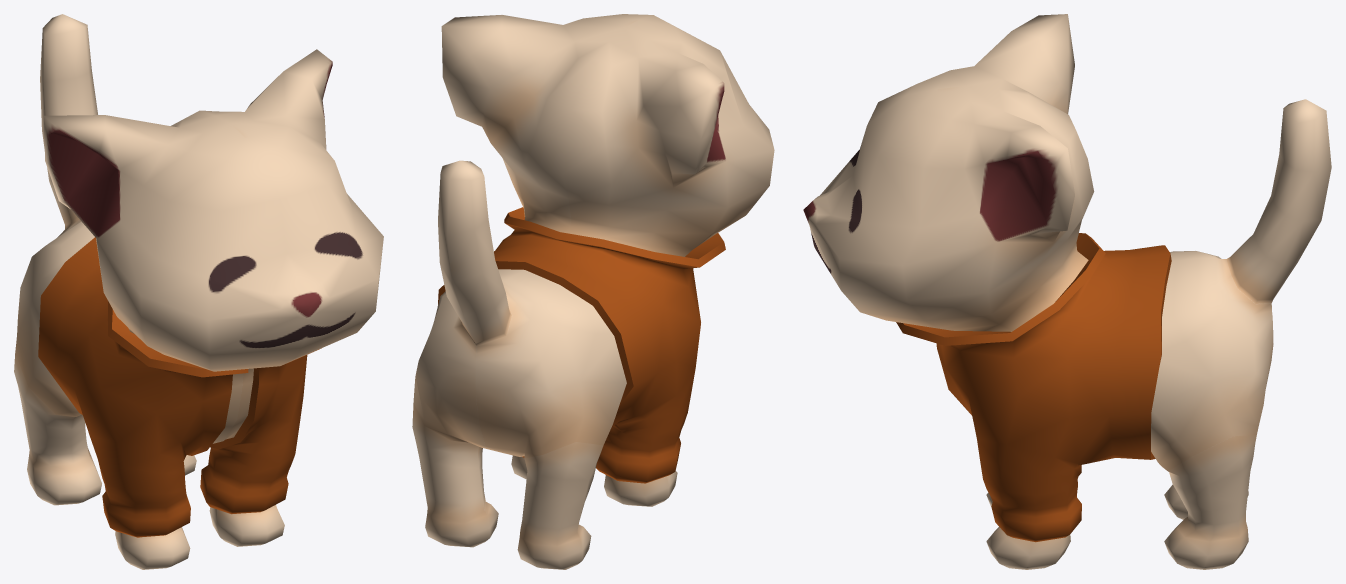
Rendered from Varsity Cat01.fbx.
3 renders of one model, left to right at view 1: azimuth 30°, elevation 25°; view 2: azimuth 150°, elevation 25°; view 3: azimuth 270°, elevation 25°, orthographic. The views are drawn at different scales.
Visible parts, largest first — view 1: Cat_Base, Varsity_Cat_Jersey; view 2: Cat_Base, Varsity_Cat_Jersey; view 3: Cat_Base, Varsity_Cat_Jersey.
Part boxes in pixels (bbox=[...]): Cat_Base: bbox=[14, 14, 383, 569]; Varsity_Cat_Jersey: bbox=[38, 237, 321, 537]; Cat_Base: bbox=[412, 14, 774, 569]; Varsity_Cat_Jersey: bbox=[438, 207, 725, 483]; Cat_Base: bbox=[803, 14, 1331, 569]; Varsity_Cat_Jersey: bbox=[896, 233, 1171, 542].
Bounding box in the file's own units: 1.75 × 2.83 × 2.68.
2 materials, 1 textured.
